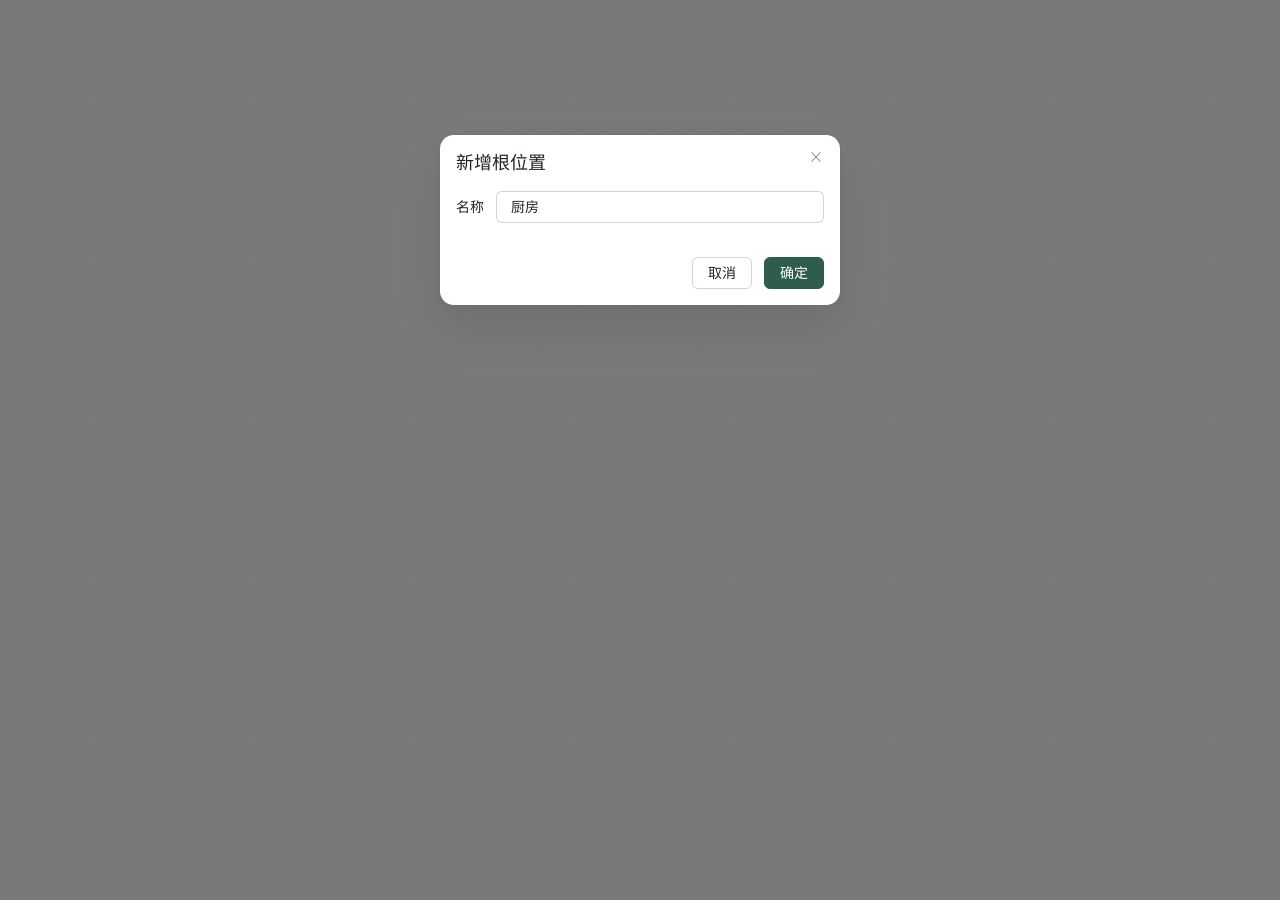
Test: LocationCreateDialog › blocks a sibling name collision with an inline error
The width and height of the screenshot is (1280, 900).
Click the button "确定": (794,273) x1=764 y1=257 x2=824 y2=289
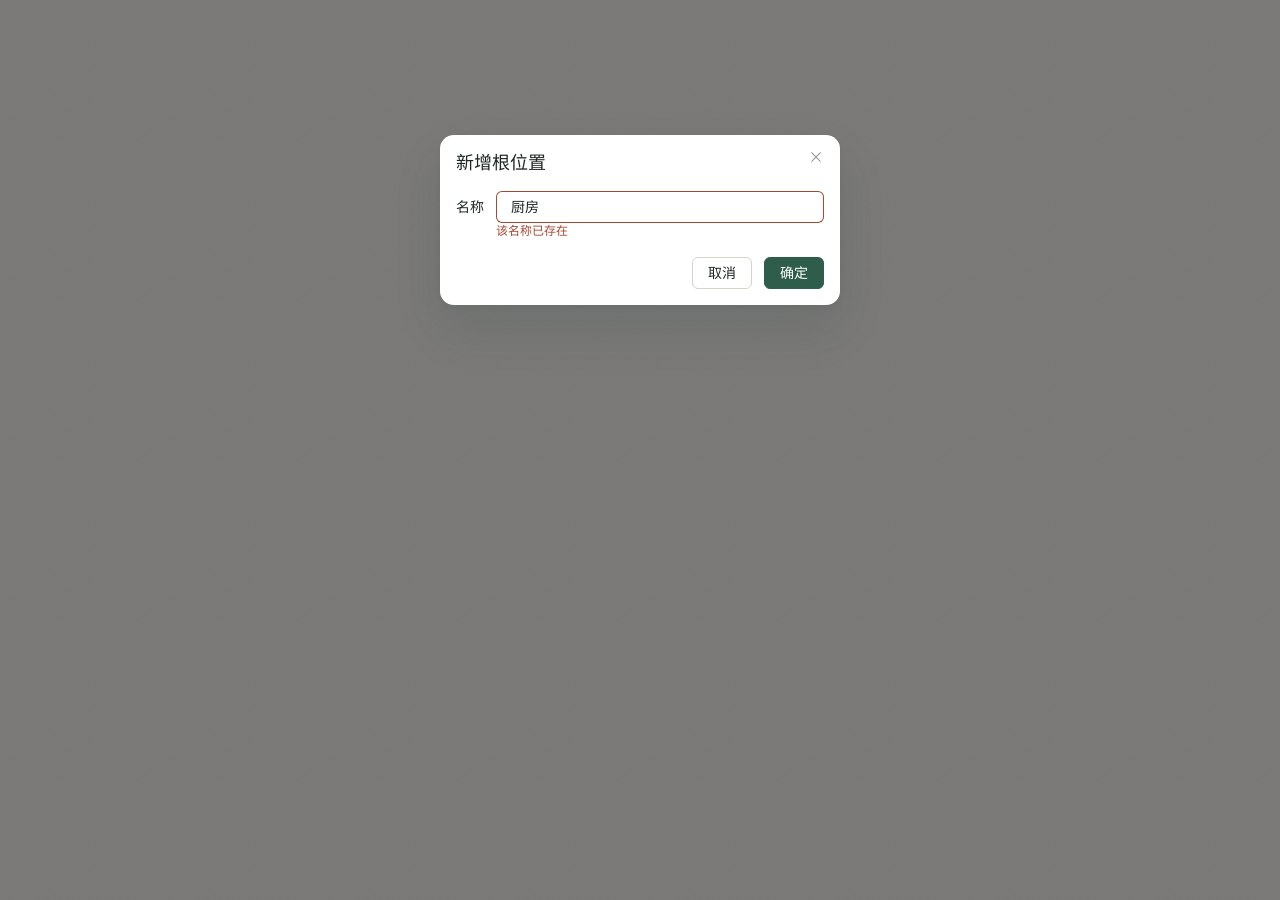
Result: the text "该名称已存在" is shown at x1=496 y1=223 x2=568 y2=237
